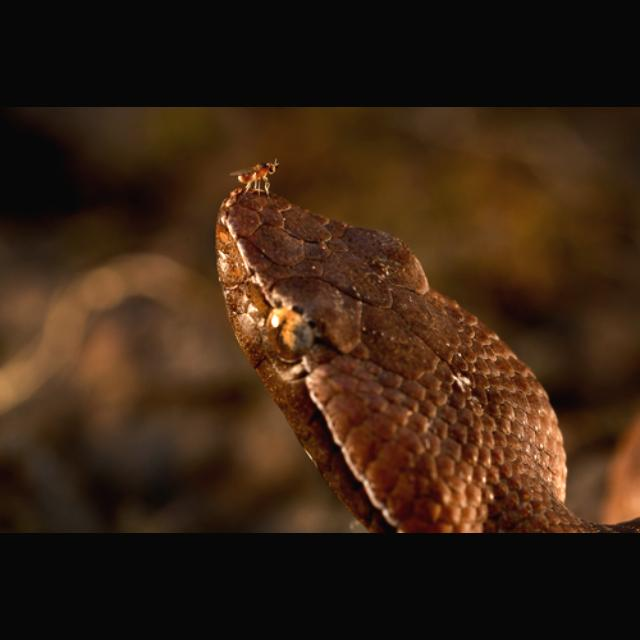snake: (216, 152, 640, 534)
